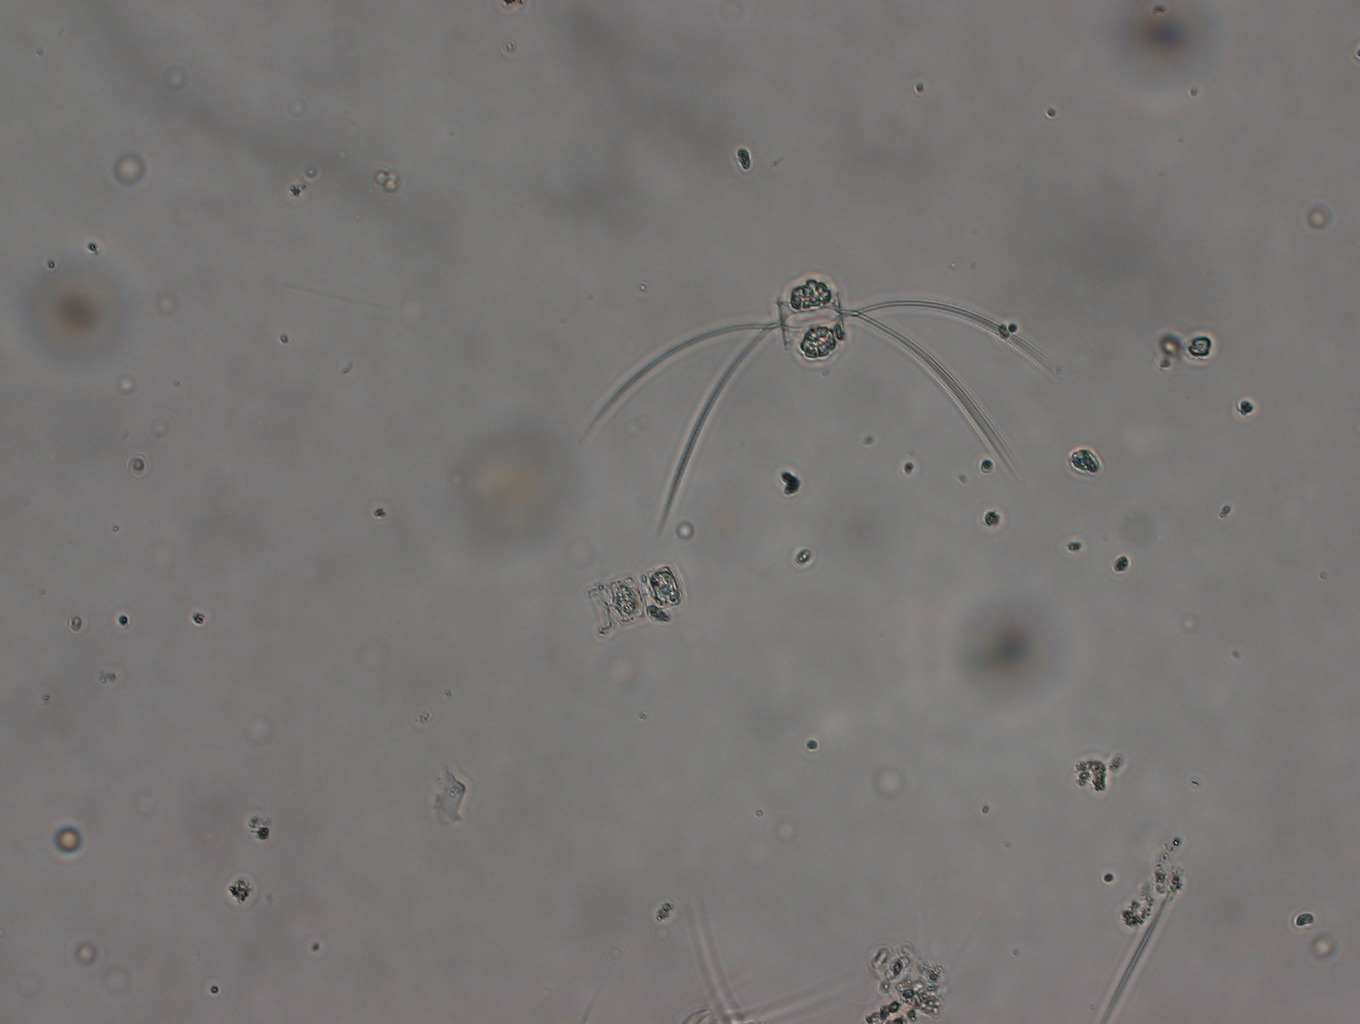chaetoceros: (569, 260, 1061, 539)
